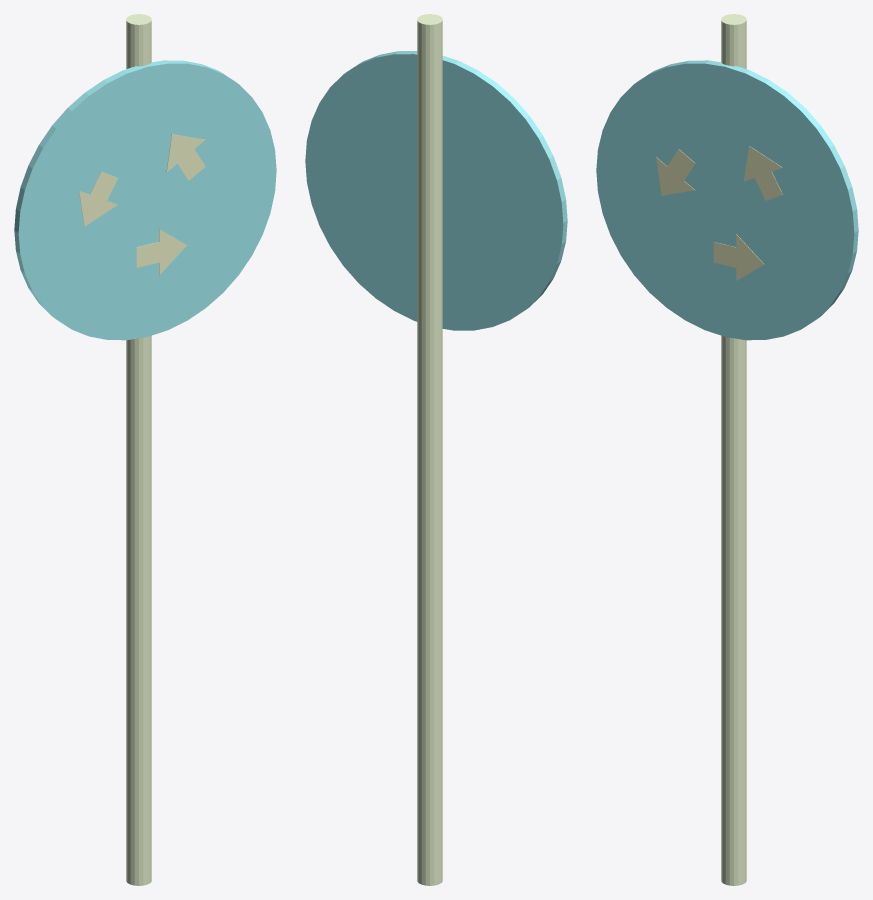
The model's file is sign_roundabout_mandatory.glb.
3 views of the same model, side by side, from view 1: azimuth 30°, elevation 25°; view 2: azimuth 150°, elevation 25°; view 3: azimuth 330°, elevation 25° (orthographic).
Visible parts, largest first — view 1: plate_base_00, pole, layer_1_03, layer_1_05, layer_1_01; view 2: plate_base_00, pole; view 3: plate_base_00, pole, layer_1_05, layer_1_03, layer_1_01.
Part boxes in pixels (left/top/right/bottom): plate_base_00: left=14, top=60, right=276, bottom=340; pole: left=126, top=14, right=151, bottom=885; layer_1_03: left=166, top=134, right=204, bottom=172; layer_1_05: left=79, top=191, right=117, bottom=226; layer_1_01: left=159, top=229, right=186, bottom=275; plate_base_00: left=305, top=51, right=567, bottom=330; pole: left=417, top=14, right=442, bottom=885; plate_base_00: left=596, top=60, right=858, bottom=340; pole: left=721, top=14, right=746, bottom=885; layer_1_05: left=656, top=157, right=694, bottom=195; layer_1_03: left=743, top=146, right=782, bottom=181; layer_1_01: left=736, top=234, right=764, bottom=280.
Size of the model in its own units: 0.69 by 2.2 by 0.071.
